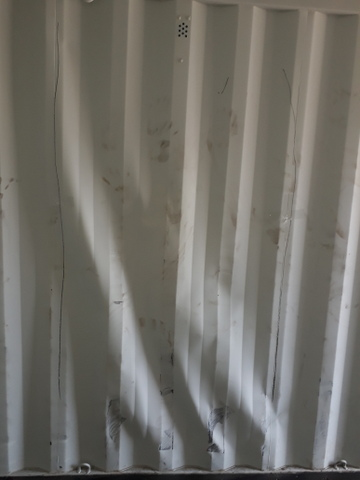bulged: (61, 169, 268, 470)
